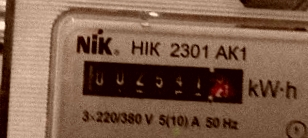0: (91, 65, 106, 87), (112, 64, 126, 86)
1: (191, 70, 204, 91)
2: (132, 66, 146, 87)
4: (172, 68, 186, 90)
5: (151, 67, 165, 89)
6: (213, 83, 225, 99)
screen: (70, 49, 255, 114)
